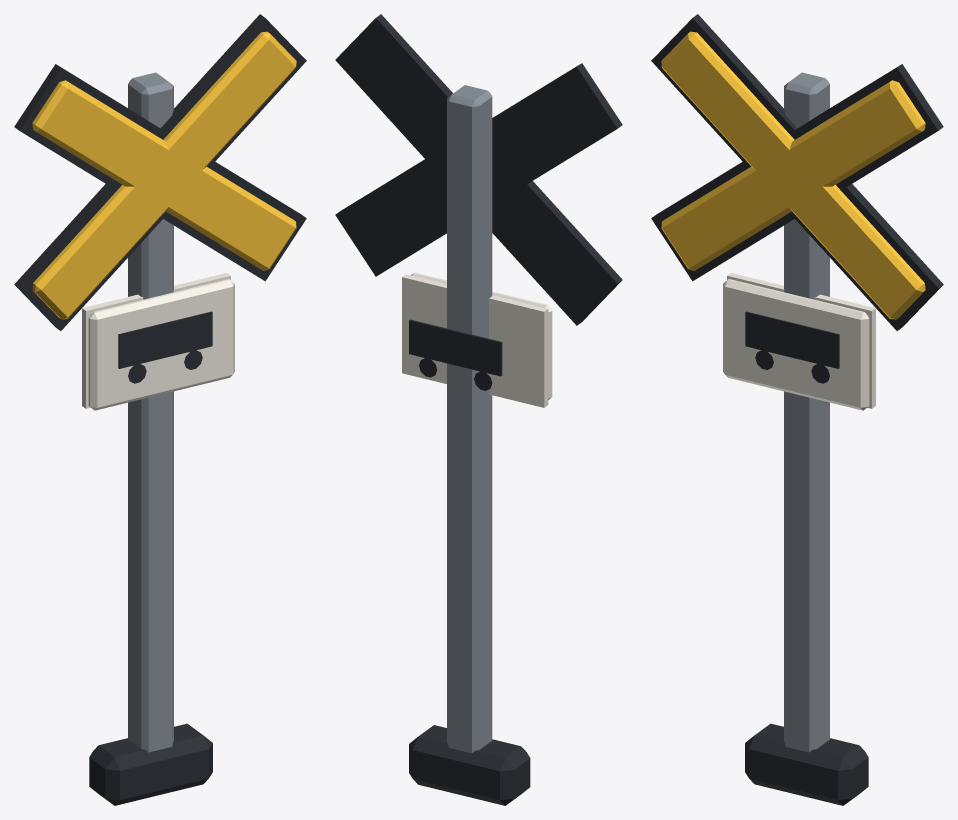
Rendered from crossing-sign.glb.
3 views of the same model, side by side, from view 1: azimuth 30°, elevation 25°; view 2: azimuth 150°, elevation 25°; view 3: azimuth 330°, elevation 25° (orthographic).
Visible parts, largest first — view 1: crossing-sign; view 2: crossing-sign; view 3: crossing-sign.
Boxes of the visible parts, x1,y1,x2,y2 form: crossing-sign: (14, 14, 306, 805); crossing-sign: (335, 14, 622, 805); crossing-sign: (651, 14, 943, 805).
Bounding box in the file's own units: 1.23 × 3.09 × 0.241.
